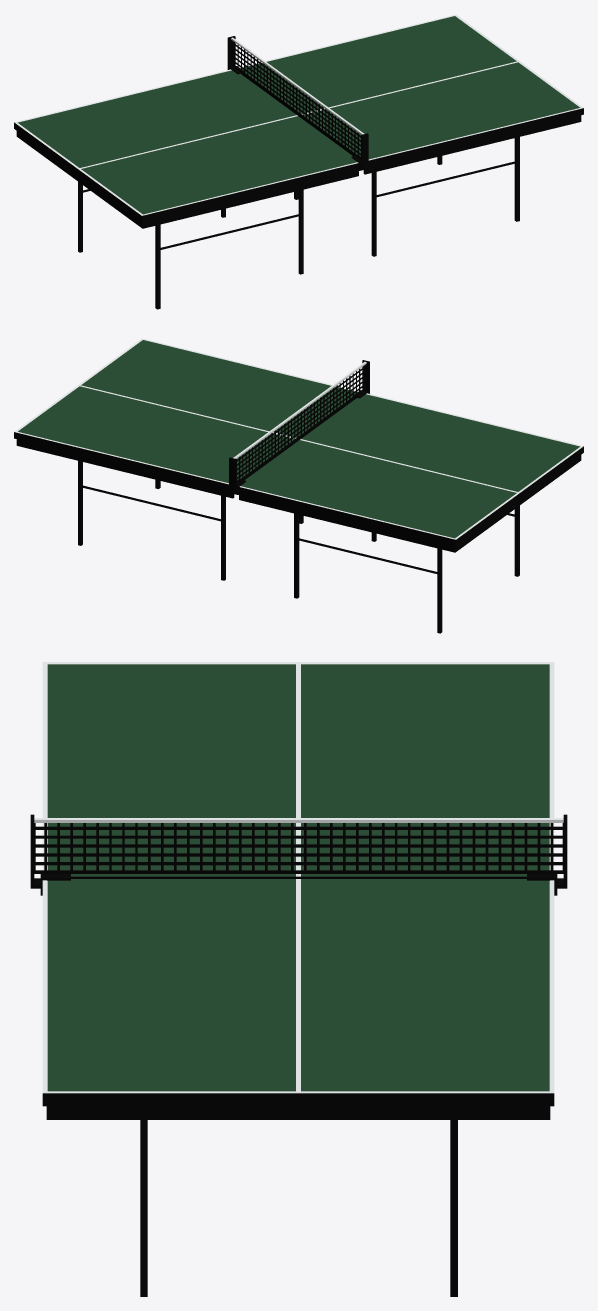
The model's file is PingPondTable.fbx.
3 renders of one model, top to bottom at view 1: azimuth 30°, elevation 25°; view 2: azimuth 150°, elevation 25°; view 3: azimuth 270°, elevation 25°, orthographic. The views are drawn at different scales.
Visible parts, largest first — view 1: Cube.001; view 2: Cube.001; view 3: Cube.001.
Part boxes in pixels (bbox=[...]): Cube.001: bbox=[14, 14, 583, 309]; Cube.001: bbox=[14, 338, 583, 633]; Cube.001: bbox=[30, 662, 567, 1296].
Bounding box in the file's own units: 648 × 211 × 340.
